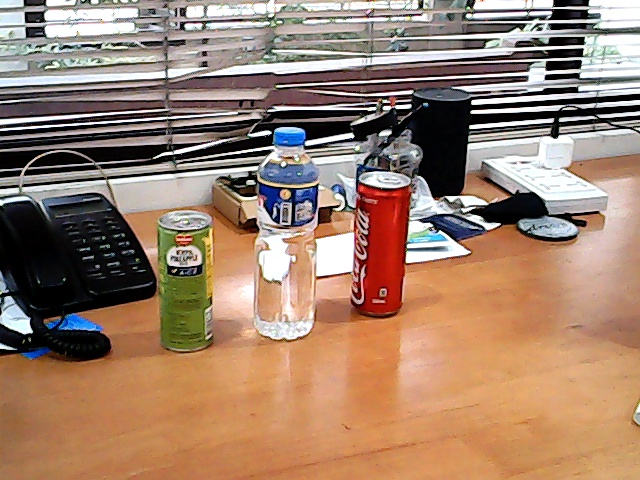Cola: (344, 162, 425, 327)
Pine Juice: (143, 204, 231, 357)
Summit Water: (240, 116, 325, 352)
